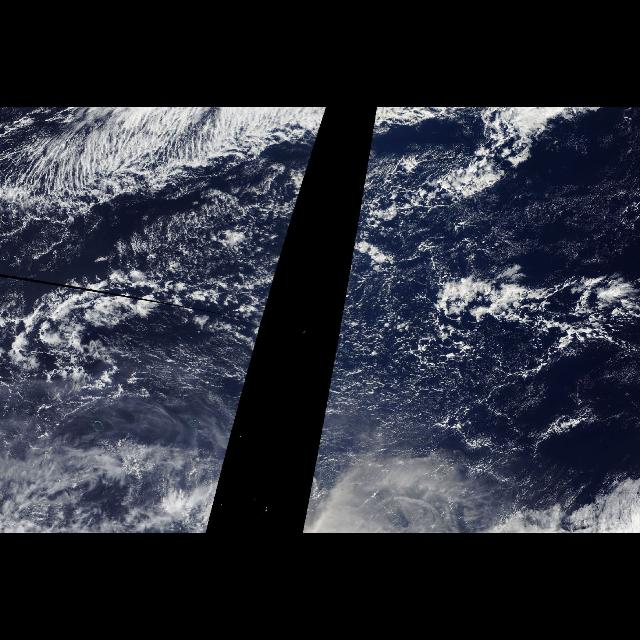Fish: (3, 108, 327, 225), (362, 107, 476, 199)
Gravel: (324, 182, 610, 492), (13, 182, 304, 406)
Sugar: (344, 182, 640, 462)
